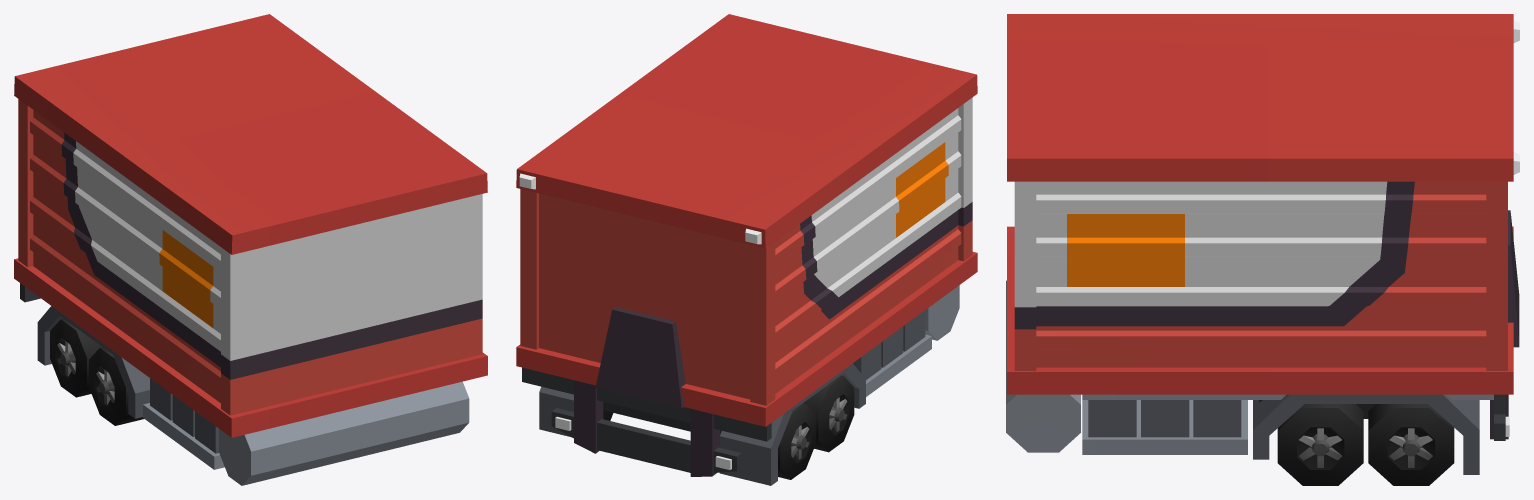
Rendered from cargo_03_E_1.fbx.
3 renders of one model, left to right at view 1: azimuth 30°, elevation 25°; view 2: azimuth 150°, elevation 25°; view 3: azimuth 270°, elevation 25°, orthographic. The views are drawn at different scales.
Visible parts, largest first — view 1: cargo_03_E_1; view 2: cargo_03_E_1; view 3: cargo_03_E_1.
Part boxes in pixels (x1,y1,x2,y2): cargo_03_E_1: [14, 14, 487, 485]; cargo_03_E_1: [516, 14, 977, 485]; cargo_03_E_1: [1006, 14, 1519, 485].
Size of the model in its own units: 14.22 by 15.18 by 21.23.
